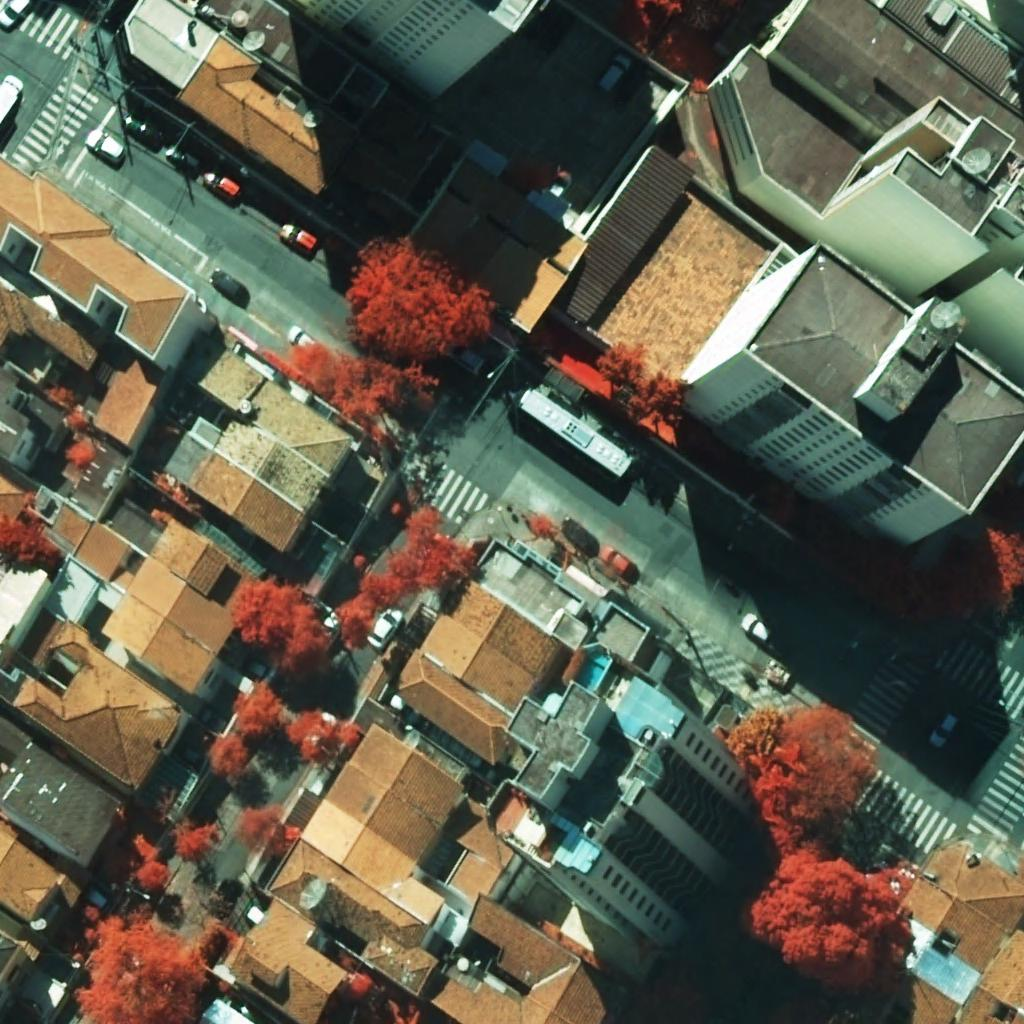pool: (575, 651, 611, 692)
